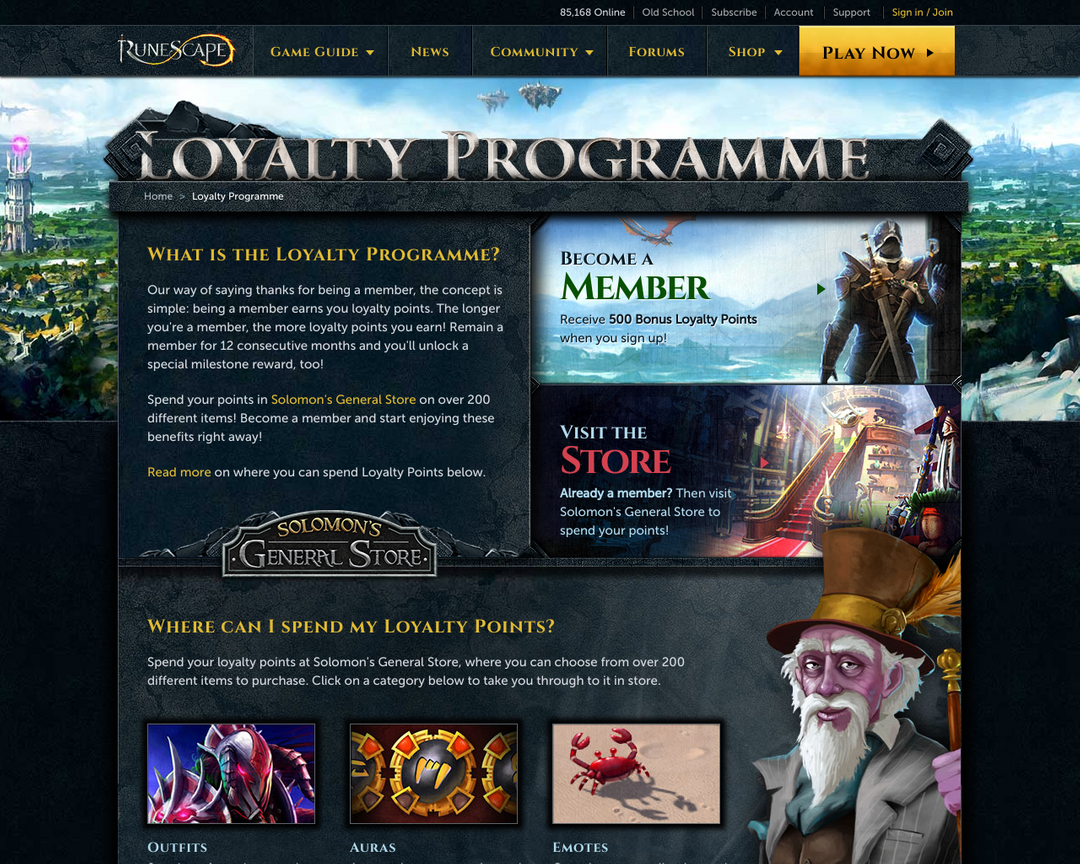Runescape: (110, 29, 242, 71)
